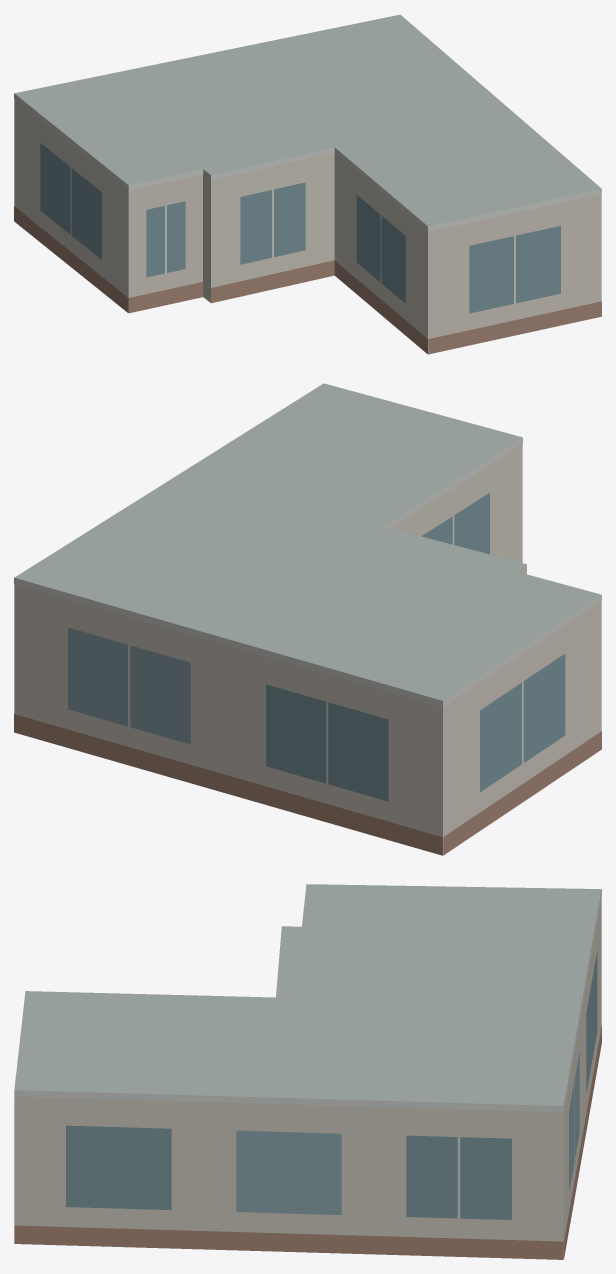
Rendered from survey-upis-32729038.glb.
3 views of the same model, one above another, from view 1: azimuth 30°, elevation 25°; view 2: azimuth 150°, elevation 25°; view 3: azimuth 270°, elevation 25° (orthographic). The views are drawn at different scales.
Visible parts, largest first — view 1: survey-upis-32729038.tmp; view 2: survey-upis-32729038.tmp; view 3: survey-upis-32729038.tmp.
Part boxes in pixels (<box>): survey-upis-32729038.tmp: <box>14,14,601,354</box>; survey-upis-32729038.tmp: <box>14,383,601,855</box>; survey-upis-32729038.tmp: <box>14,884,601,1259</box>.
Bounding box in the file's own units: 9.46 × 3.05 × 10.58.
